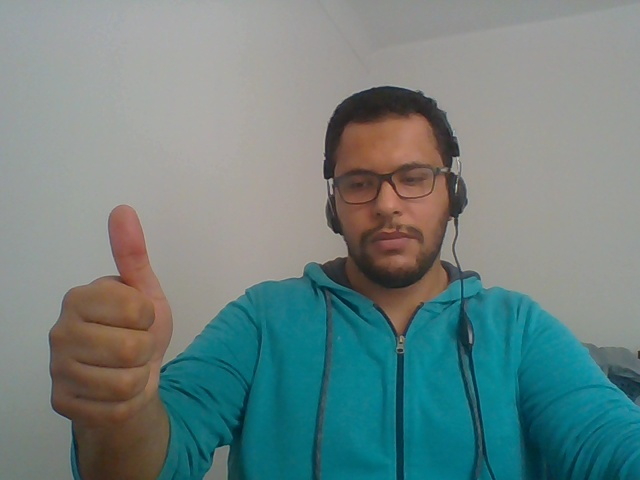ok: (41, 180, 191, 474)
